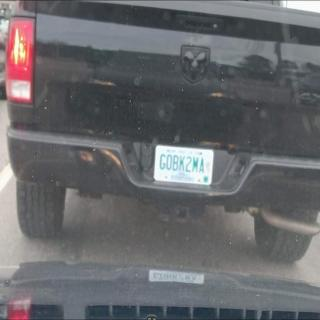license: (154, 146, 216, 188)
